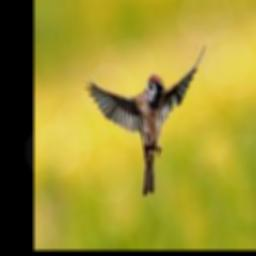Sparrow: (84, 44, 204, 196)
